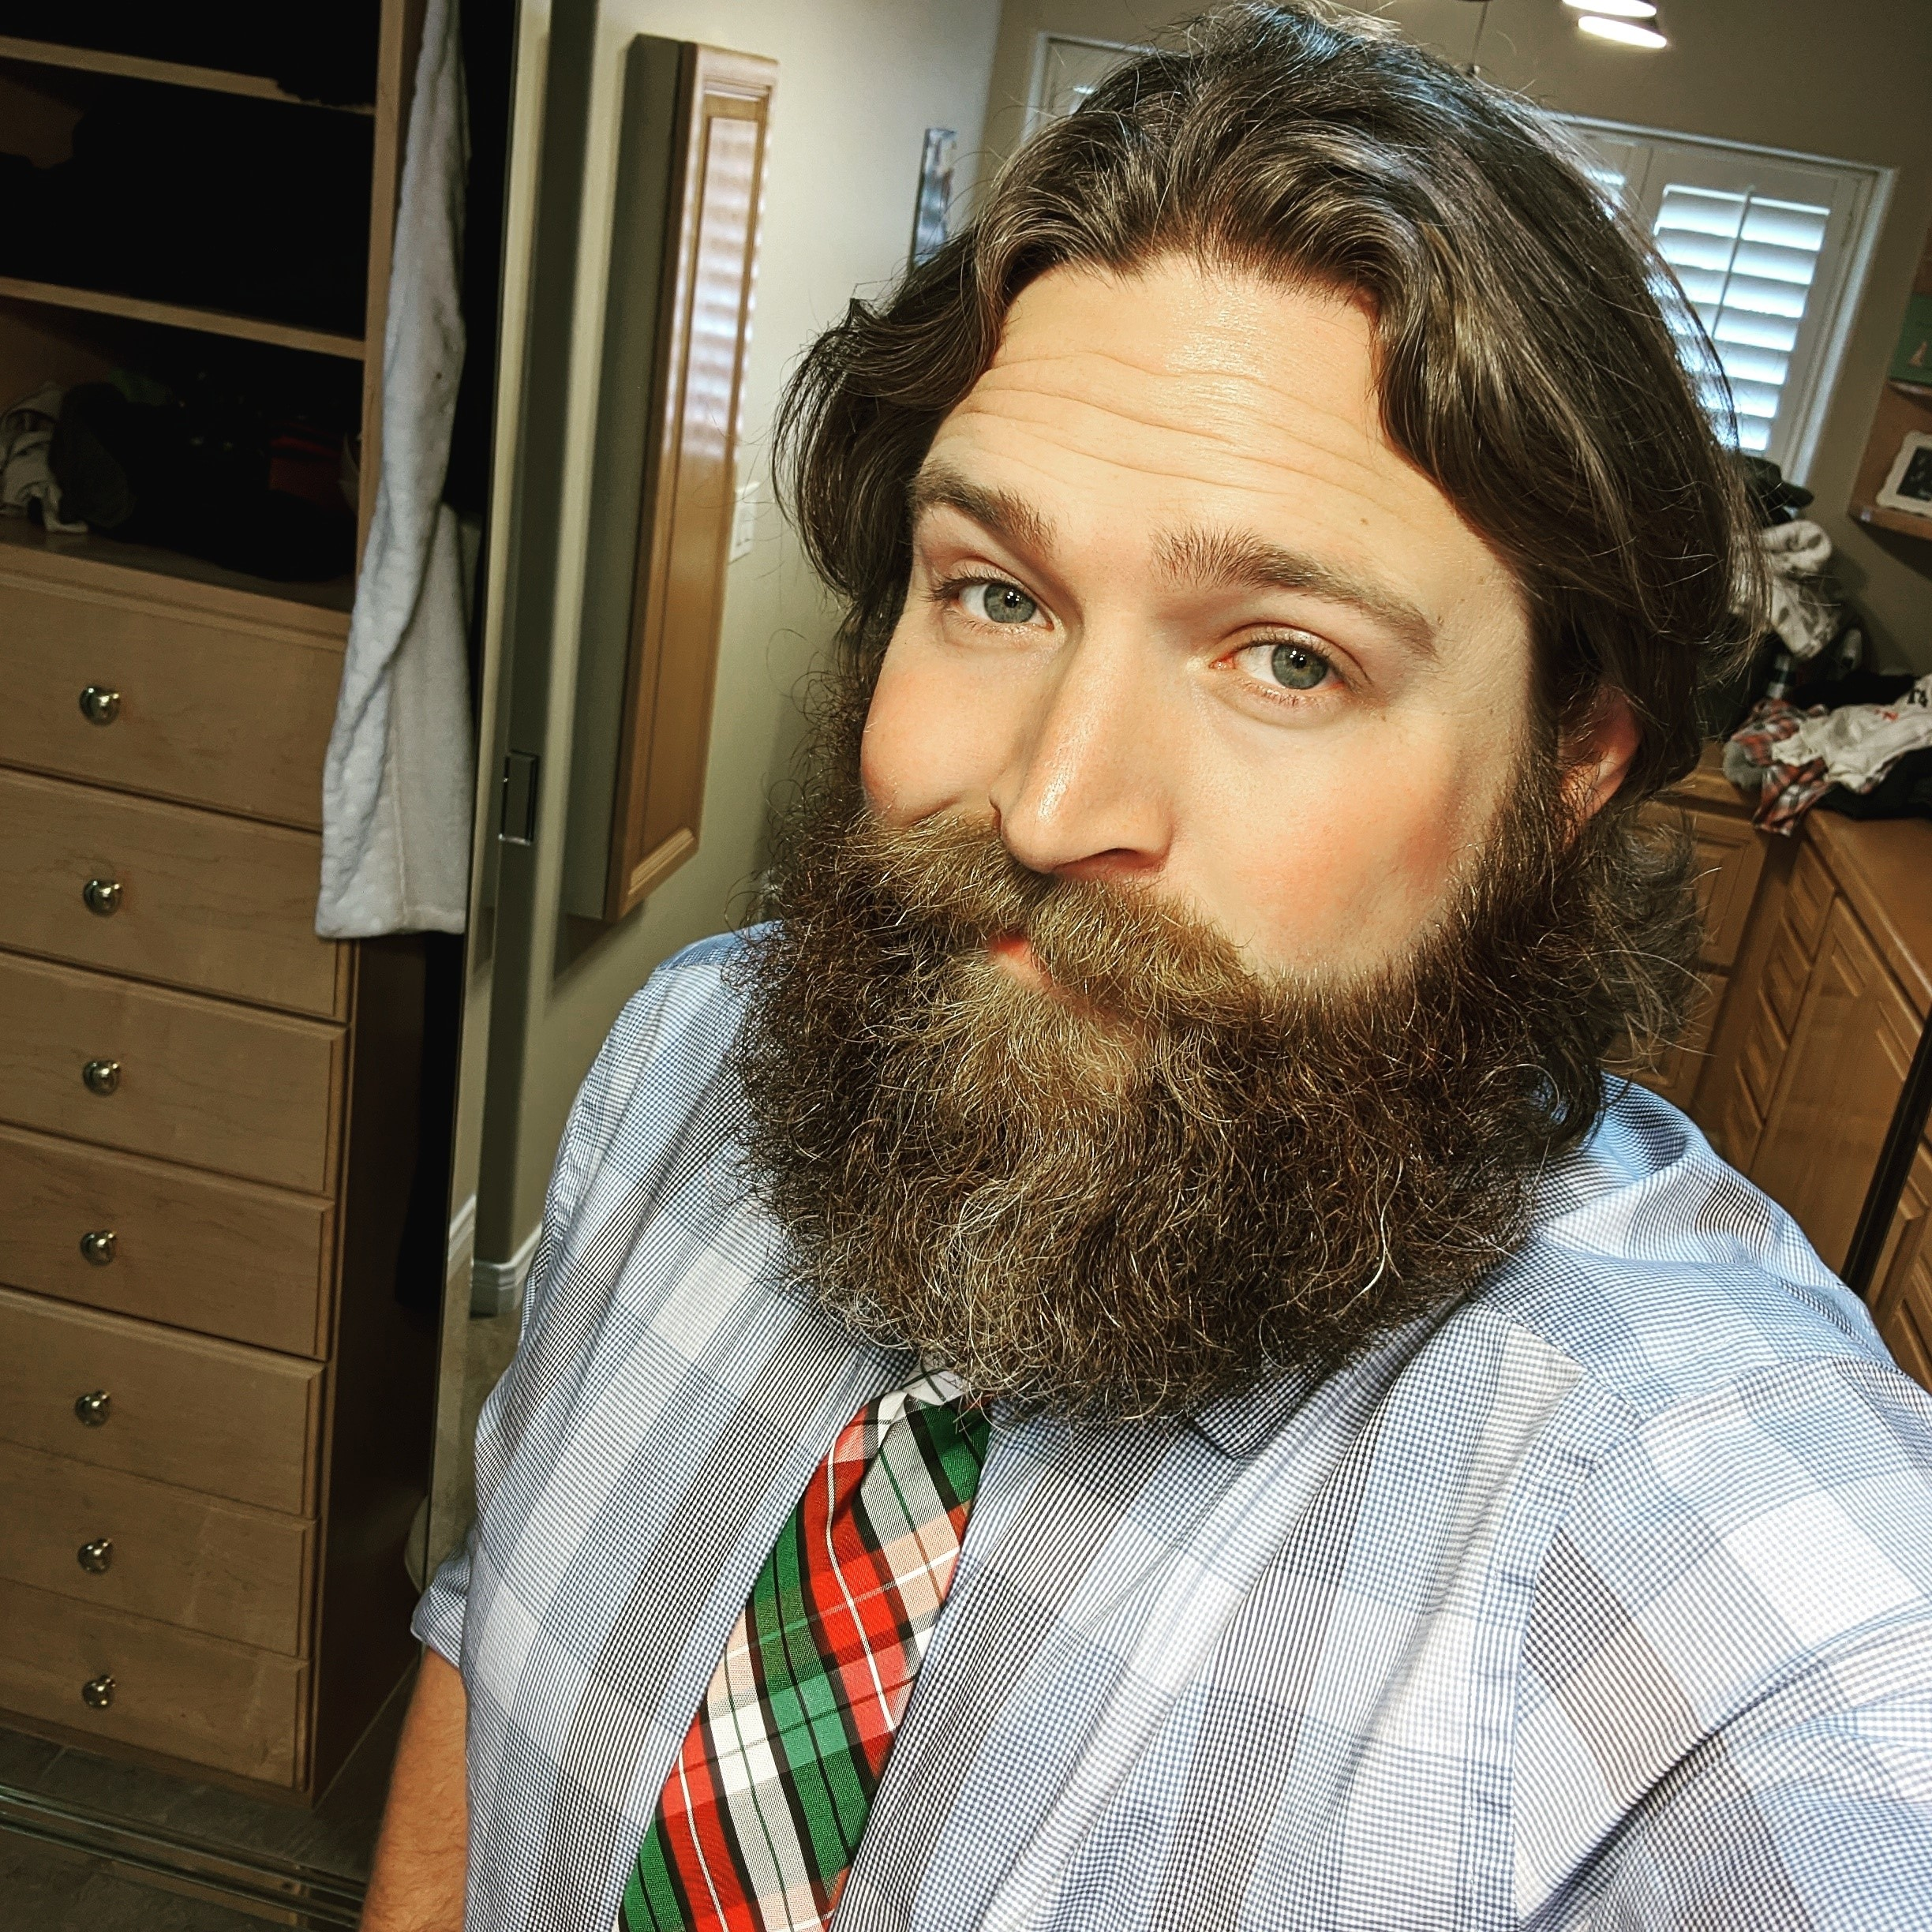face_no_mask: (793, 240, 1665, 1202)
